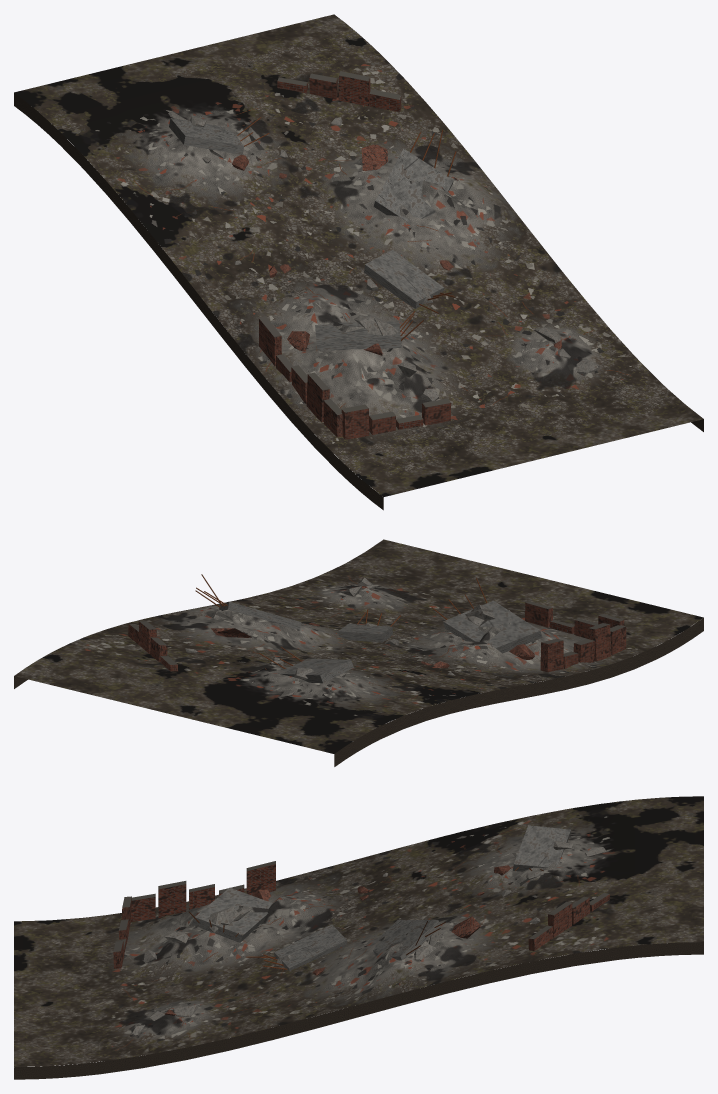
The model's file is Ground_Rubble_Slope_Up400.fbx.
3 views of the same model, one above another, from view 1: azimuth 30°, elevation 25°; view 2: azimuth 150°, elevation 25°; view 3: azimuth 270°, elevation 25° (orthographic). The views are drawn at different scales.
Visible parts, largest first — view 1: Ground_Rubble_Slope_Up400; view 2: Ground_Rubble_Slope_Up400; view 3: Ground_Rubble_Slope_Up400.
Part boxes in pixels (x1,y1,x2,y2): Ground_Rubble_Slope_Up400: (14, 14, 703, 510); Ground_Rubble_Slope_Up400: (14, 539, 703, 766); Ground_Rubble_Slope_Up400: (14, 796, 703, 1079).
Bounding box in the file's own units: 1000 × 471 × 2000.
